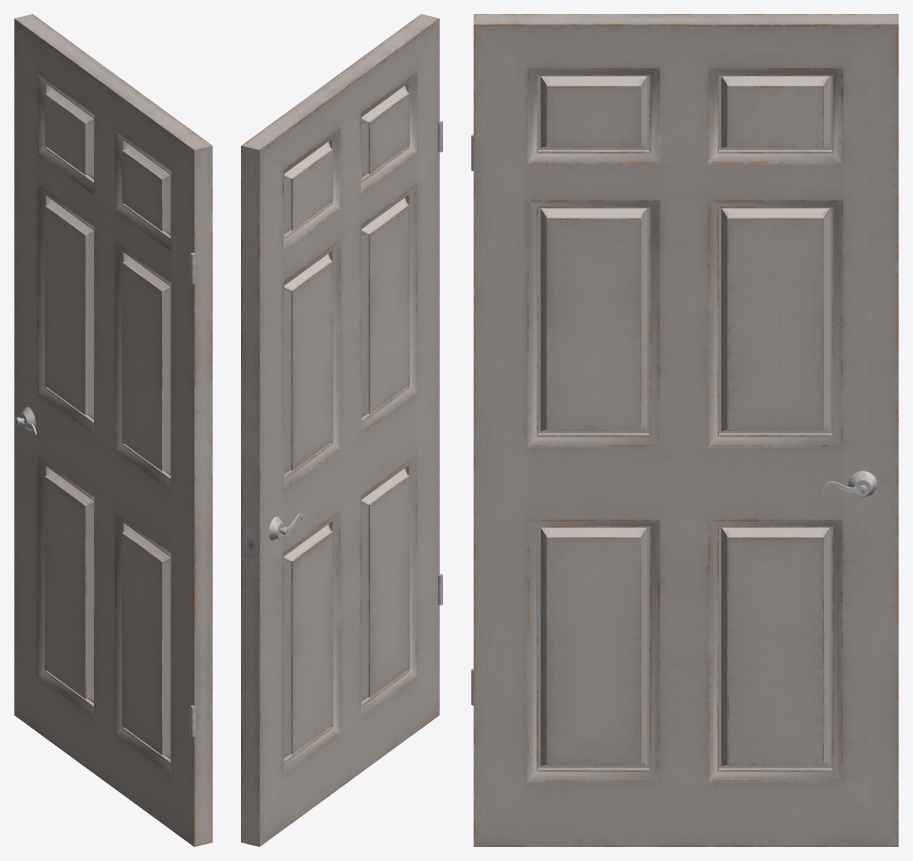
The model's file is SM_Doorway_Door.fbx.
3 renders of one model, left to right at view 1: azimuth 30°, elevation 25°; view 2: azimuth 150°, elevation 25°; view 3: azimuth 270°, elevation 25°, orthographic. The views are drawn at different scales.
Visible parts, largest first — view 1: SM_Doorway_Door_LOD0; view 2: SM_Doorway_Door_LOD0; view 3: SM_Doorway_Door_LOD0.
Boxes of the visible parts, x1=… form: SM_Doorway_Door_LOD0: x1=14, y1=14, x2=212, y2=846; SM_Doorway_Door_LOD0: x1=241, y1=14, x2=442, y2=846; SM_Doorway_Door_LOD0: x1=471, y1=14, x2=898, y2=846.
Bounding box in the file's own units: 15.12 × 108 × 229.
1 material, 1 textured.
